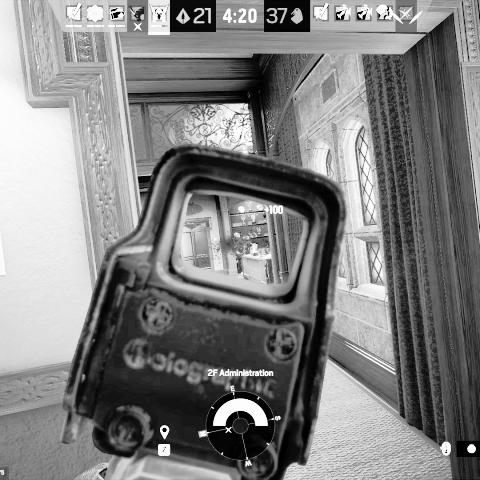Character: (236, 236, 254, 277)
Head: (243, 236, 249, 243)
